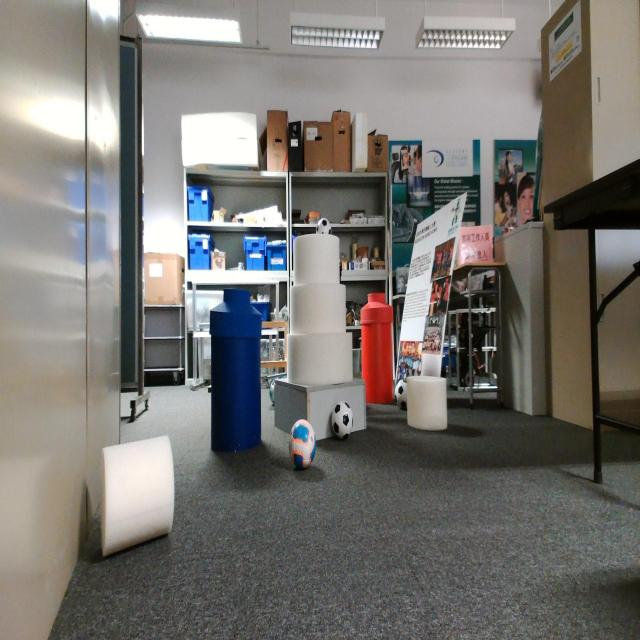Soccer Ball: (289, 419, 318, 467), (331, 402, 353, 432), (395, 382, 407, 405), (316, 218, 331, 235)
